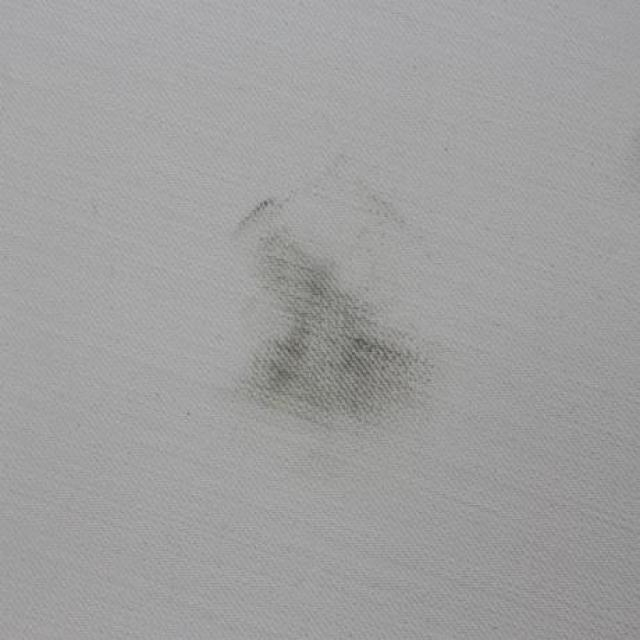Hole: (150, 138, 508, 464)
